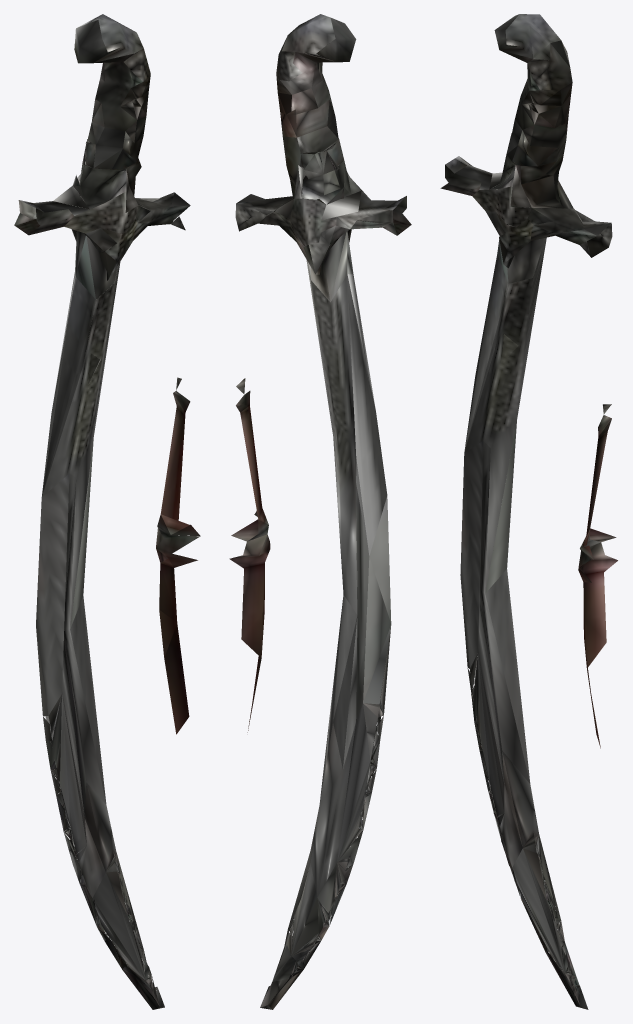
File: qilich_egri.glb
The picture shows the model from 3 angles, left to right: view 1: azimuth 30°, elevation 25°; view 2: azimuth 150°, elevation 25°; view 3: azimuth 330°, elevation 25°; orthographic projection. The views are drawn at different scales.
Parts seen in each view (by area): view 1: qilich_egri; view 2: qilich_egri; view 3: qilich_egri.
Boxes of the visible parts, x1,y1,x2,y2 form: qilich_egri: (14,14,200,1009); qilich_egri: (229,14,411,1009); qilich_egri: (440,14,617,1009).
Bounding box in the file's own units: 0.1629 × 0.95 × 0.0667.
1 material, 1 textured.
